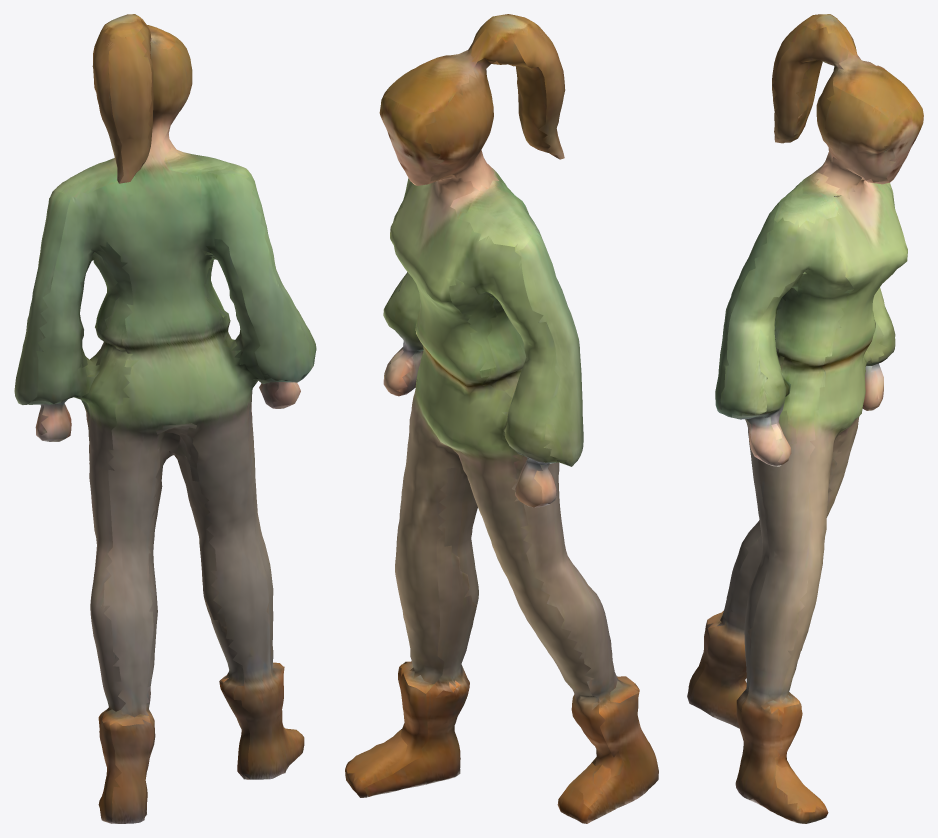
3 views of the same model, side by side, from view 1: azimuth 30°, elevation 25°; view 2: azimuth 150°, elevation 25°; view 3: azimuth 270°, elevation 25° (orthographic). The views are drawn at different scales.
Parts seen in each view (by area): view 1: world; view 2: world; view 3: world.
Boxes of the visible parts, bbox=[...] form: world: bbox=[14, 14, 316, 823]; world: bbox=[345, 14, 658, 823]; world: bbox=[687, 14, 923, 823].
Bounding box in the file's own units: 0.328 × 0.95 × 0.277.
1 material, 1 textured.
